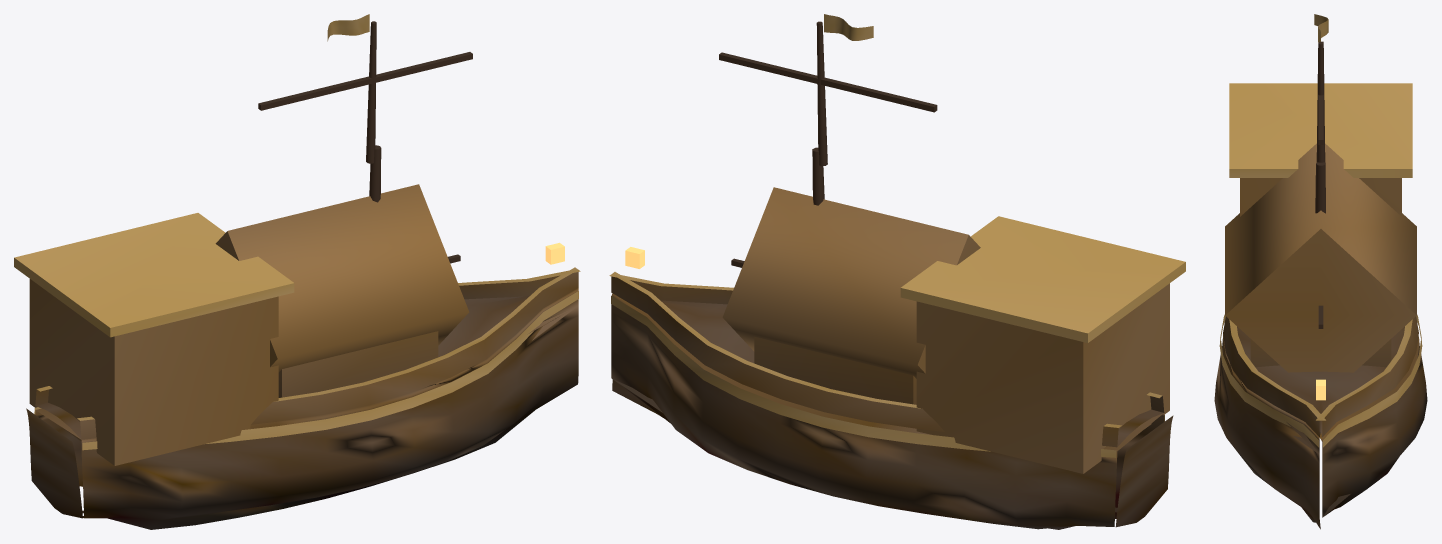
Rendered from garden-hero-liberty.glb.
The picture shows the model from 3 angles, left to right: view 1: azimuth 30°, elevation 25°; view 2: azimuth 150°, elevation 25°; view 3: azimuth 270°, elevation 25°; orthographic projection. The views are drawn at different scales.
Visible parts, largest first — view 1: wood-hull, trim-hull, spar-hull; view 2: wood-hull, trim-hull, spar-hull; view 3: wood-hull, trim-hull, spar-hull.
Part boxes in pixels (<box>): wood-hull: <box>26,14,580,529</box>; trim-hull: <box>14,213,578,450</box>; spar-hull: <box>258,21,472,263</box>; wood-hull: <box>609,14,1173,529</box>; trim-hull: <box>611,216,1185,457</box>; spar-hull: <box>719,21,937,267</box>; wood-hull: <box>1214,14,1427,529</box>; trim-hull: <box>1219,83,1422,447</box>; spar-hull: <box>1315,41,1325,328</box>.
Size of the model in its own units: 10.48 by 8.82 by 3.84.
